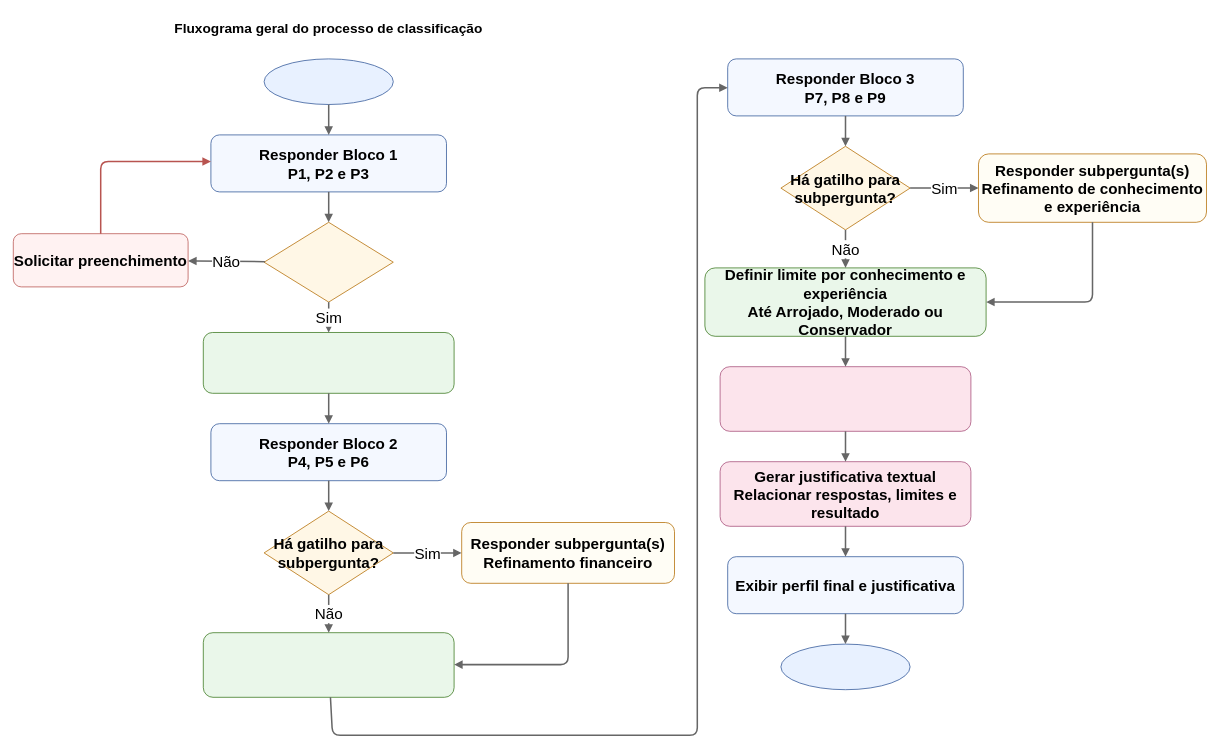
This 1220x755 diagram has some shape labels left out. Here are the shapes that lost their labels. From the top down, the centre of each, then its label:
At point (328, 81): "Início".
At point (328, 262): "Bloco 1 preenchido?".
At point (328, 362): "Calcular perfil preliminar Conservador, Moderado ou Arrojado".
At point (845, 398): "Consolidar perfil final Aplicar o menor limite entre as etapas".
At point (328, 664): "Definir limite financeiro Até Arrojado, Moderado ou Conservador".
At point (845, 666): "Fim".
